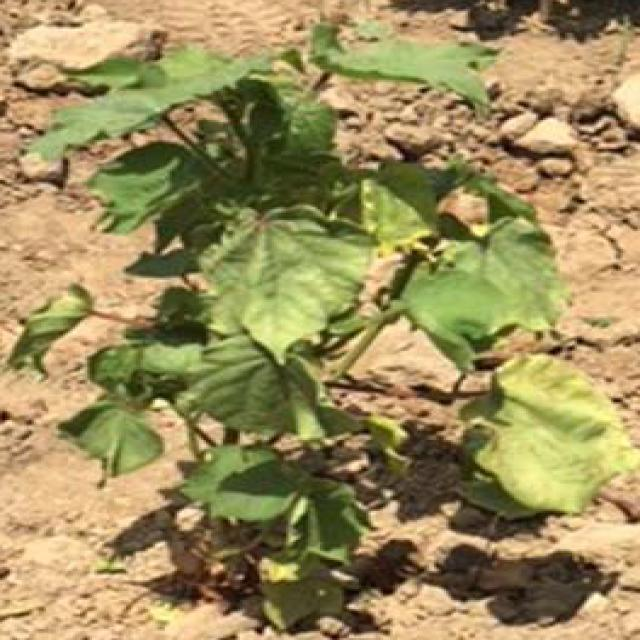Fusarium Wilt: (55, 28, 594, 574)
